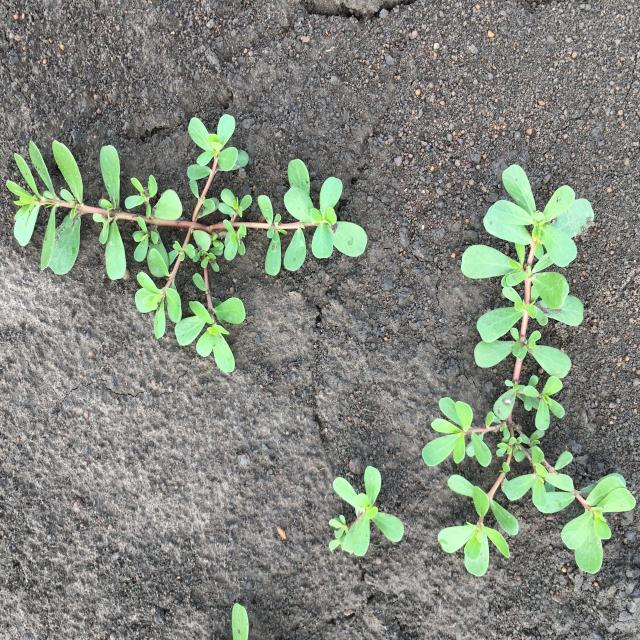Purslane: (5, 114, 368, 373), (422, 165, 636, 578), (328, 466, 404, 556)
